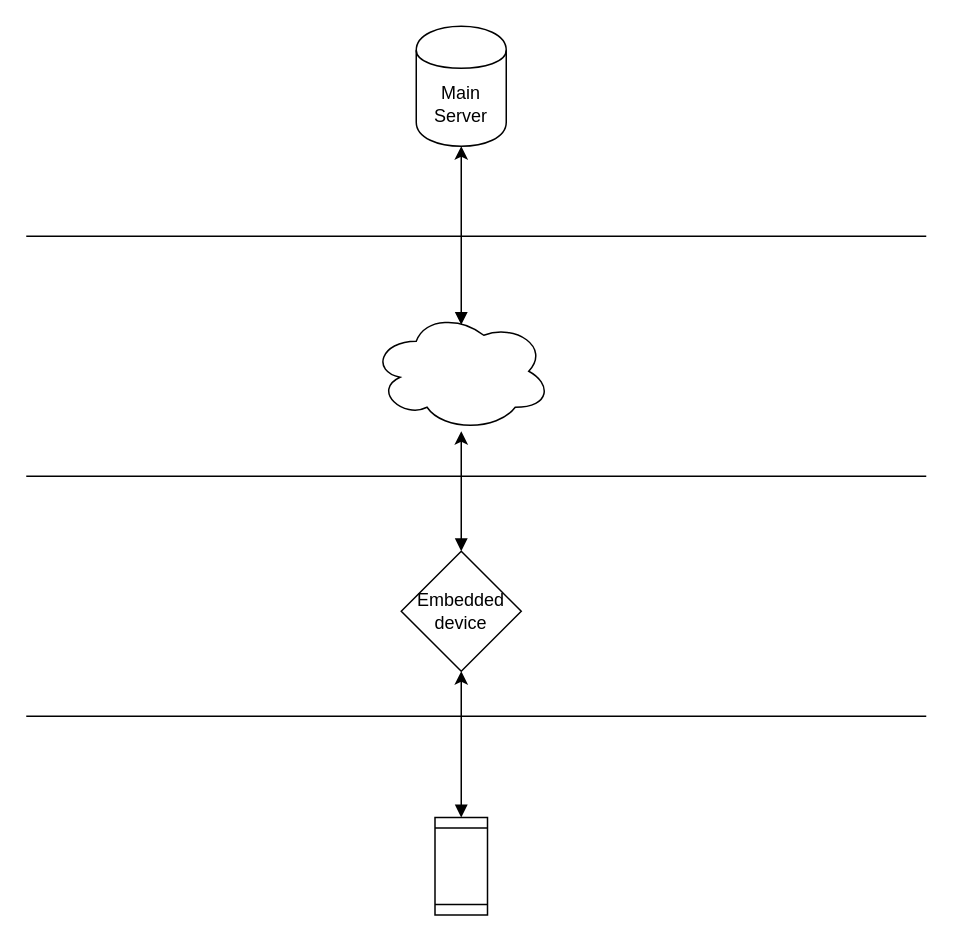
Image size: 954x942. Some labels were removed from this diagram. The centre of each missing label's shape, as x and y in pixels:
"APP" belongs at (x=461, y=865).
"Mid Server" belongs at (x=460, y=370).
